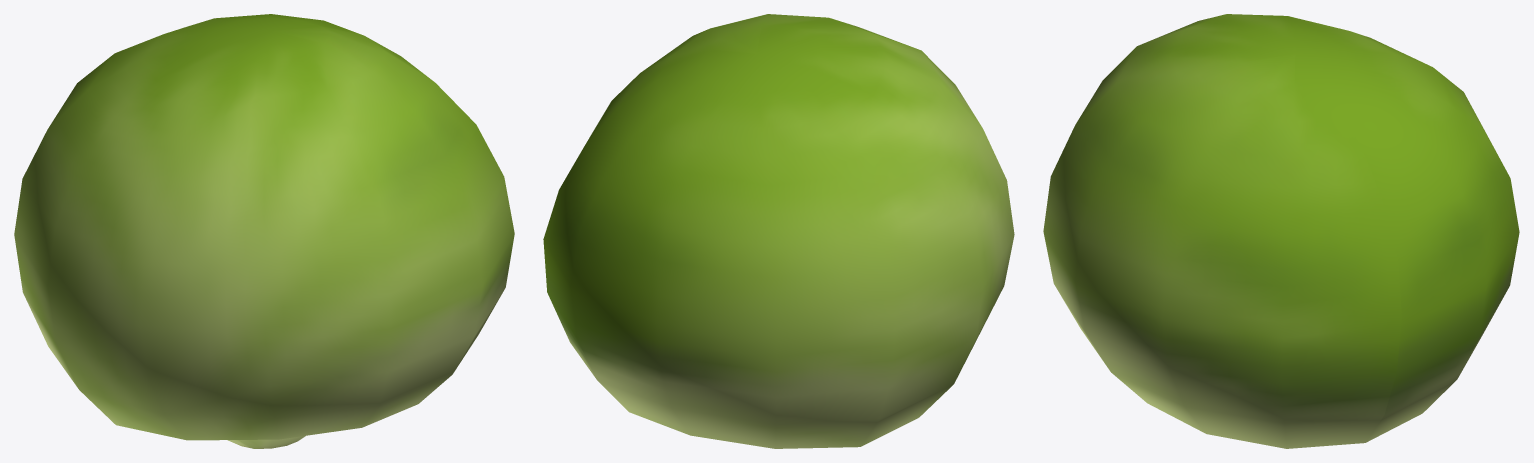
File: assets_salad_ball_full.fbx
The picture shows the model from 3 angles, left to right: view 1: azimuth 30°, elevation 25°; view 2: azimuth 150°, elevation 25°; view 3: azimuth 270°, elevation 25°; orthographic projection. The views are drawn at different scales.
Visible parts, largest first — view 1: assets_salad_ball_full; view 2: assets_salad_ball_full; view 3: assets_salad_ball_full.
Boxes of the visible parts, x1,y1,x2,y2 form: assets_salad_ball_full: (14,14,514,448); assets_salad_ball_full: (543,14,1014,448); assets_salad_ball_full: (1043,14,1519,448).
Size of the model in its own units: 1.97 by 1.8 by 2.
